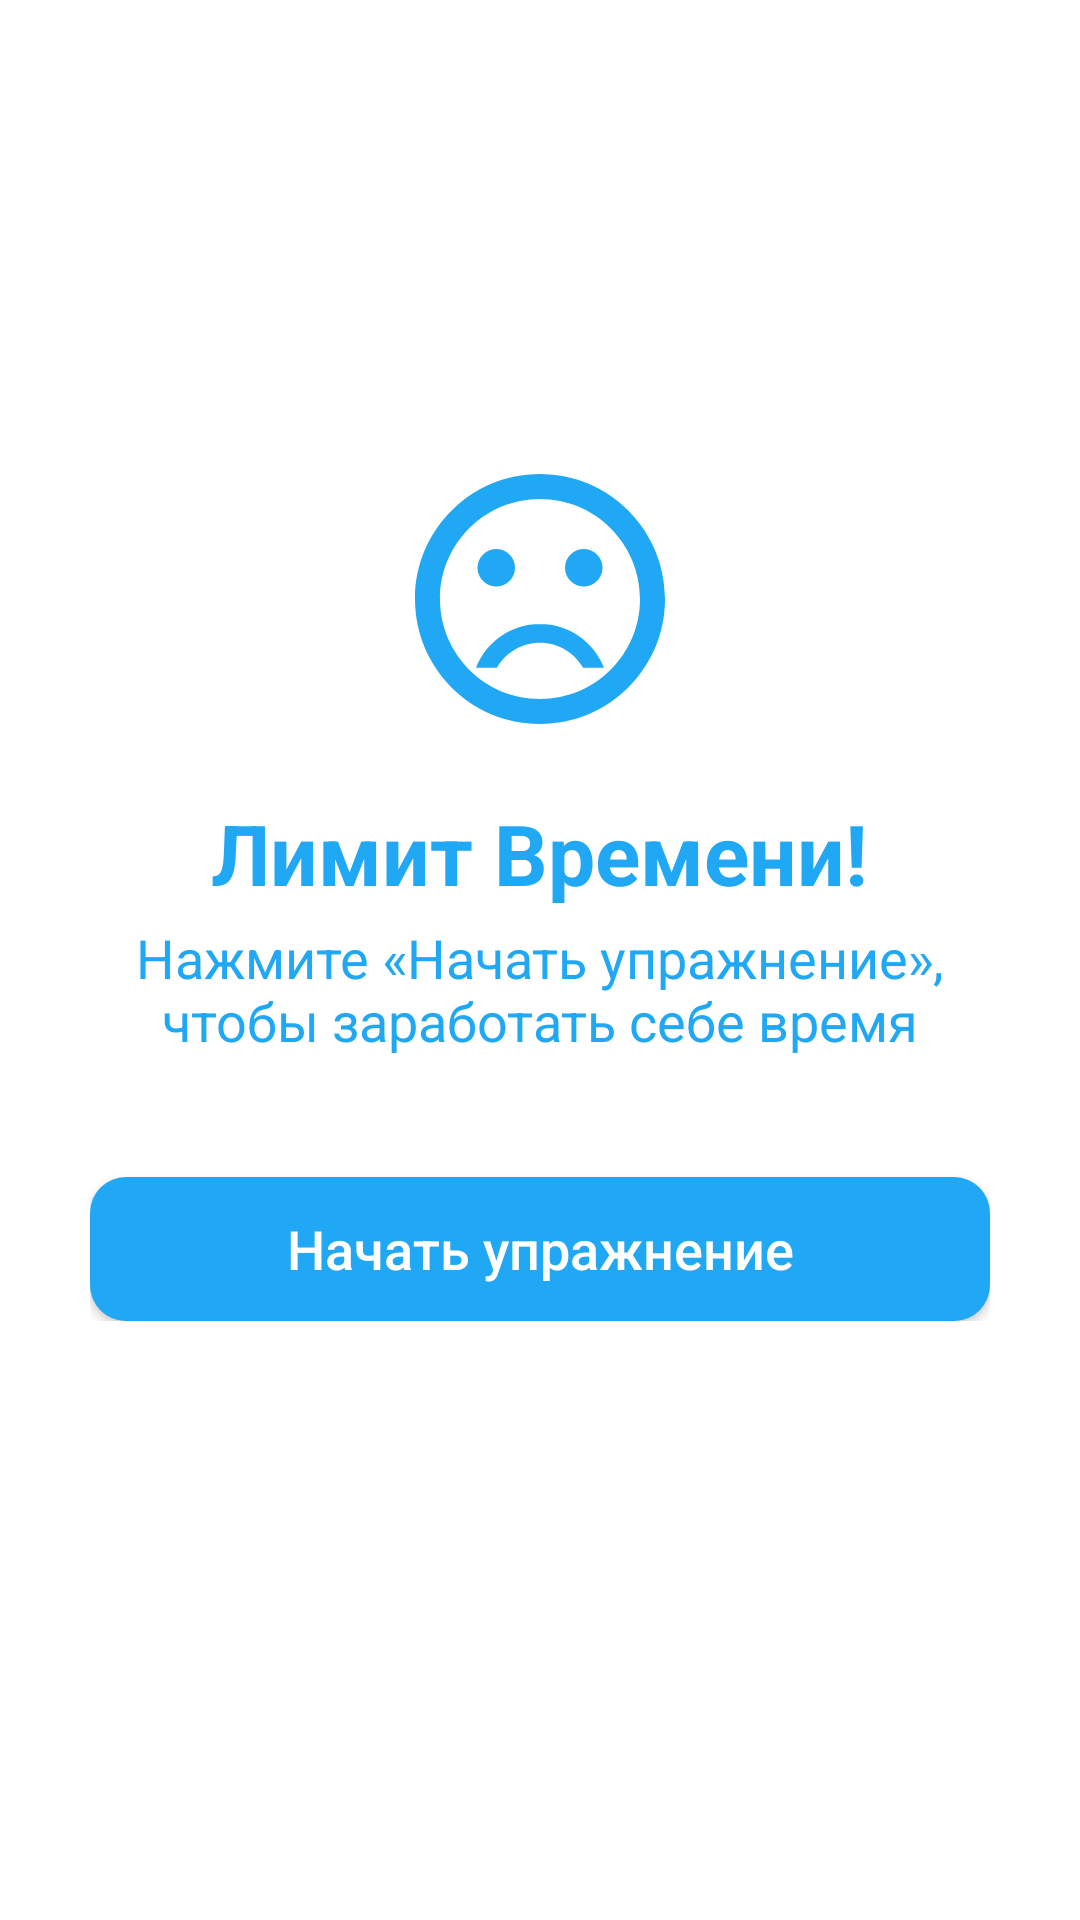

Icons on this 1080x1920 Android screen, each with the point to tap as [x,y]:
sentiment very dissatisfied: [540,599]
